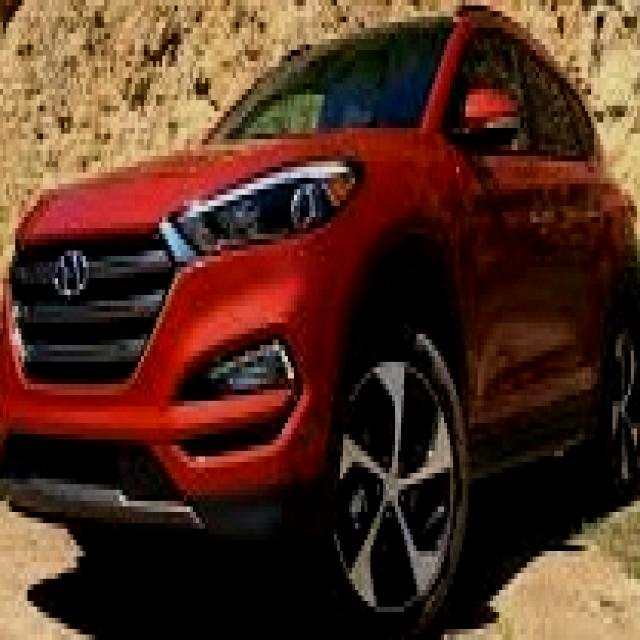red: (0, 14, 634, 571)
